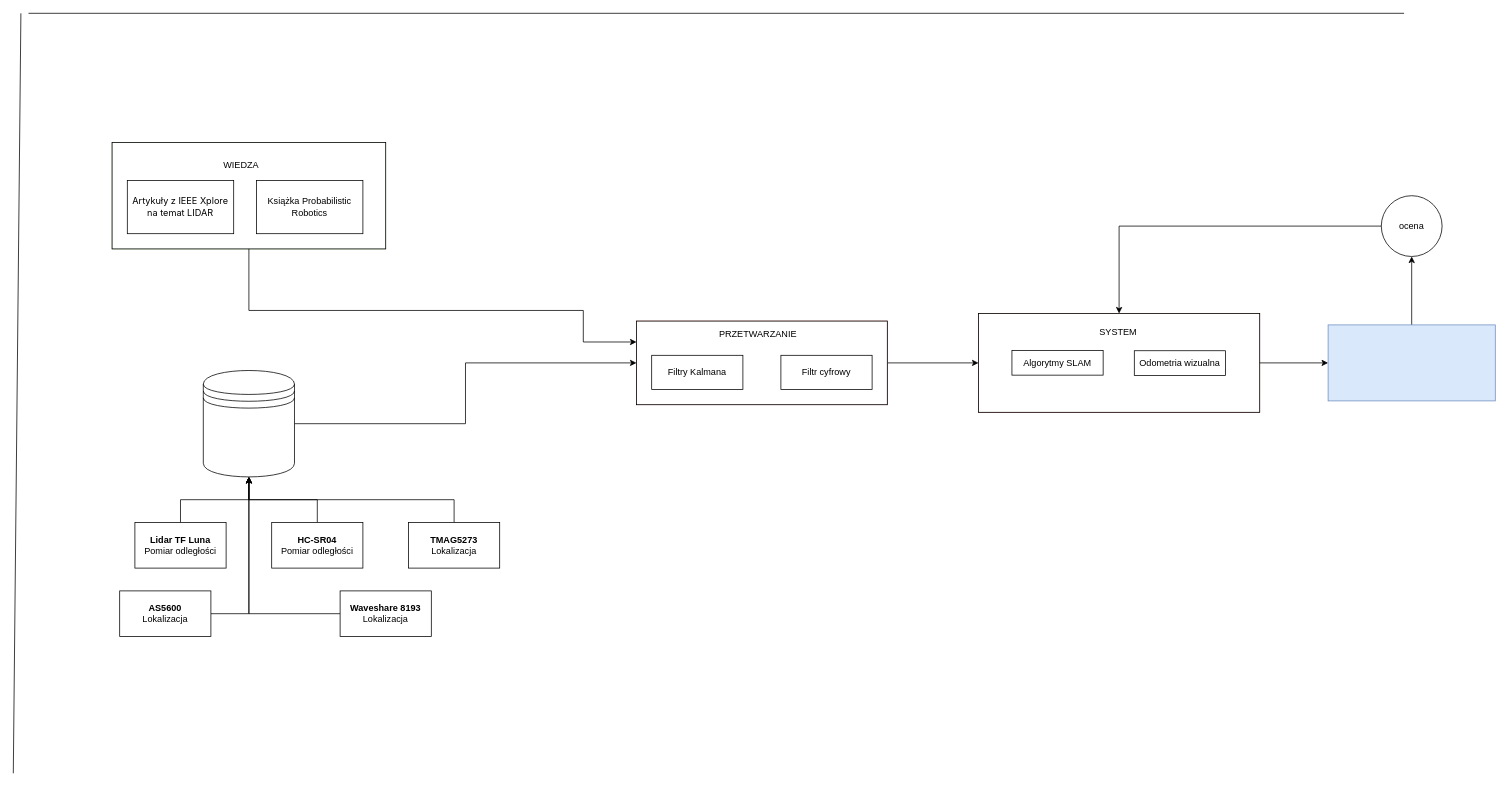
Image size: 1509x787. Some labels were removed from this diagram. The box of each missing label's shape, as (x1, y1, x2, y2) in pixels:
DECYZJE Wizualizacja wyników pomiarowych wraz z przewidywanym błędem pomiarowym: (1327, 324, 1495, 401)
MongoDB Baza danych pomiarowych: (203, 370, 294, 477)
